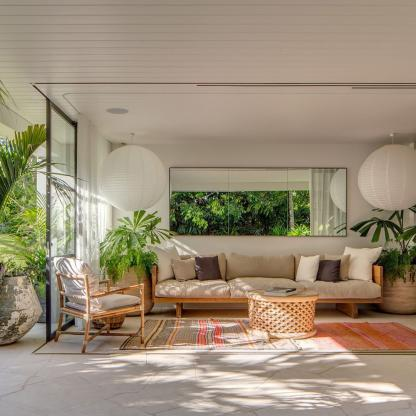bantal: (344, 248, 374, 281), (196, 256, 224, 281), (296, 255, 318, 282), (173, 258, 194, 281), (319, 261, 342, 281)
kursi: (54, 254, 147, 345)
meja: (247, 287, 319, 340)
sova: (147, 249, 386, 320)
tanaman: (2, 124, 48, 278), (105, 215, 163, 273)
